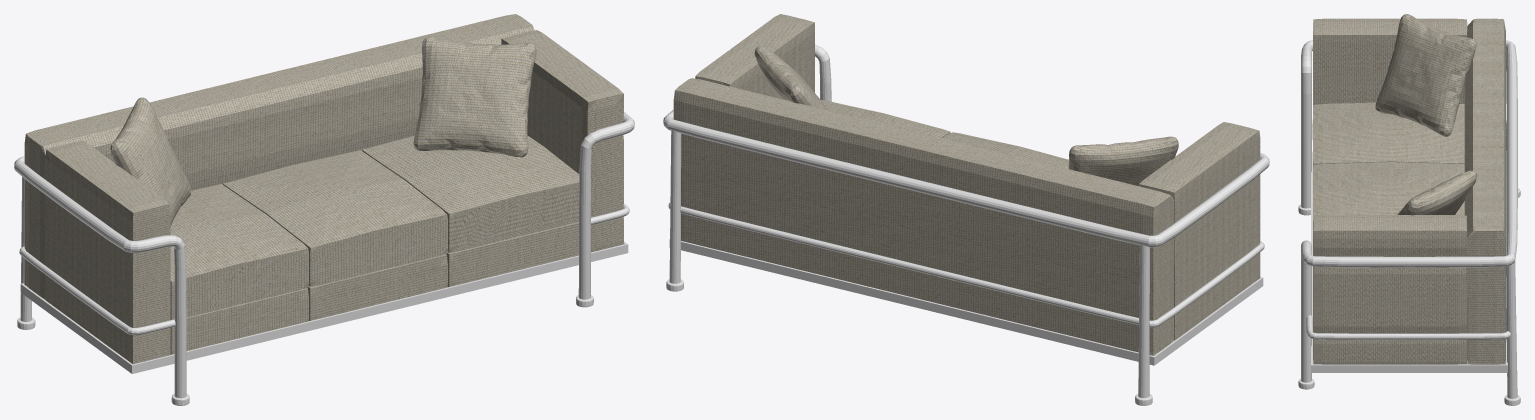
Rendered from b0-couch.glb.
3 views of the same model, side by side, from view 1: azimuth 30°, elevation 25°; view 2: azimuth 150°, elevation 25°; view 3: azimuth 270°, elevation 25° (orthographic). The views are drawn at different scales.
Parts seen in each view (by area): view 1: Couch_Seat_Cube.003, Couch_Back_Cube.001, Couch_Arms_Cube.002, Couch_Base_Cube.004, Pillow.002_Cube.009, Couch_Bars_Circle, Couch_Metal_Support_Plane, Pillow_Cube.007; view 2: Couch_Back_Cube.001, Couch_Arms_Cube.002, Couch_Bars_Circle, Couch_Metal_Support_Plane, Pillow_Cube.007, Couch_Seat_Cube.003, Pillow.002_Cube.009; view 3: Couch_Arms_Cube.002, Couch_Seat_Cube.003, Couch_Back_Cube.001, Couch_Bars_Circle, Pillow_Cube.007, Couch_Metal_Support_Plane, Pillow.002_Cube.009.
Boxes of the visible parts, x1=… form: Couch_Seat_Cube.003: x1=170, y1=136, x2=579, y2=319; Couch_Back_Cube.001: x1=24, y1=14, x2=534, y2=299; Couch_Arms_Cube.002: x1=45, y1=30, x2=623, y2=364; Couch_Base_Cube.004: x1=170, y1=222, x2=578, y2=354; Pillow.002_Cube.009: x1=413, y1=36, x2=536, y2=157; Couch_Bars_Circle: x1=14, y1=112, x2=634, y2=405; Couch_Metal_Support_Plane: x1=20, y1=241, x2=628, y2=373; Pillow_Cube.007: x1=110, y1=97, x2=191, y2=226; Couch_Back_Cube.001: x1=673, y1=78, x2=1174, y2=355; Couch_Arms_Cube.002: x1=695, y1=14, x2=1260, y2=340; Couch_Bars_Circle: x1=663, y1=44, x2=1269, y2=405; Couch_Metal_Support_Plane: x1=669, y1=239, x2=1263, y2=365; Pillow_Cube.007: x1=1068, y1=136, x2=1178, y2=185; Couch_Seat_Cube.003: x1=821, y1=100, x2=1068, y2=168; Pillow.002_Cube.009: x1=754, y1=46, x2=827, y2=110; Couch_Arms_Cube.002: x1=1313, y1=18, x2=1467, y2=364; Couch_Seat_Cube.003: x1=1313, y1=102, x2=1464, y2=223; Couch_Back_Cube.001: x1=1464, y1=18, x2=1505, y2=364; Couch_Bars_Circle: x1=1298, y1=40, x2=1520, y2=405; Pillow_Cube.007: x1=1375, y1=14, x2=1476, y2=136; Couch_Metal_Support_Plane: x1=1311, y1=151, x2=1507, y2=372; Pillow.002_Cube.009: x1=1397, y1=170, x2=1477, y2=215.
Bounding box in the file's own units: 2.07 × 0.856 × 0.8759.
Materials: 3 (2 with a texture image).
